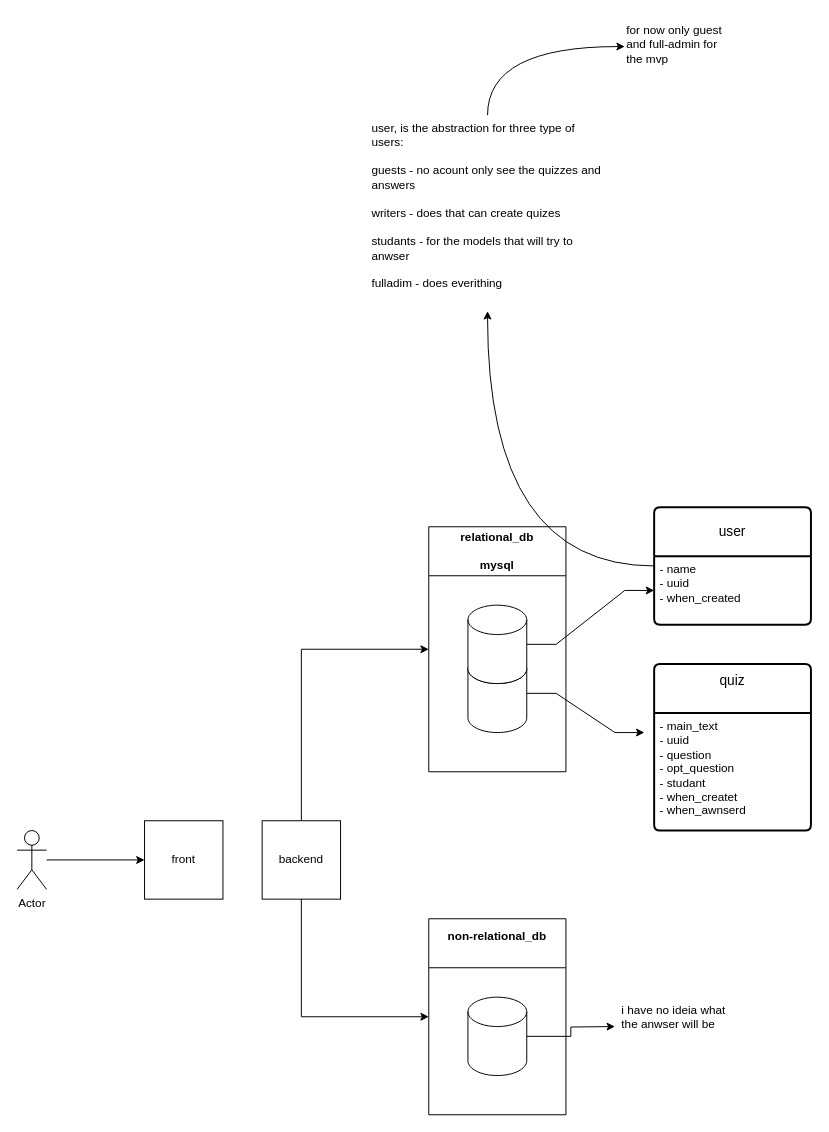
This 829x1132 diagram has some shape labels left out. The shapes that lost their labels are listed below. From the top down, each one's centre as x and y in pixels, then its label:
point (497, 644): users
point (497, 693): quizes
point (497, 1036): ansers
